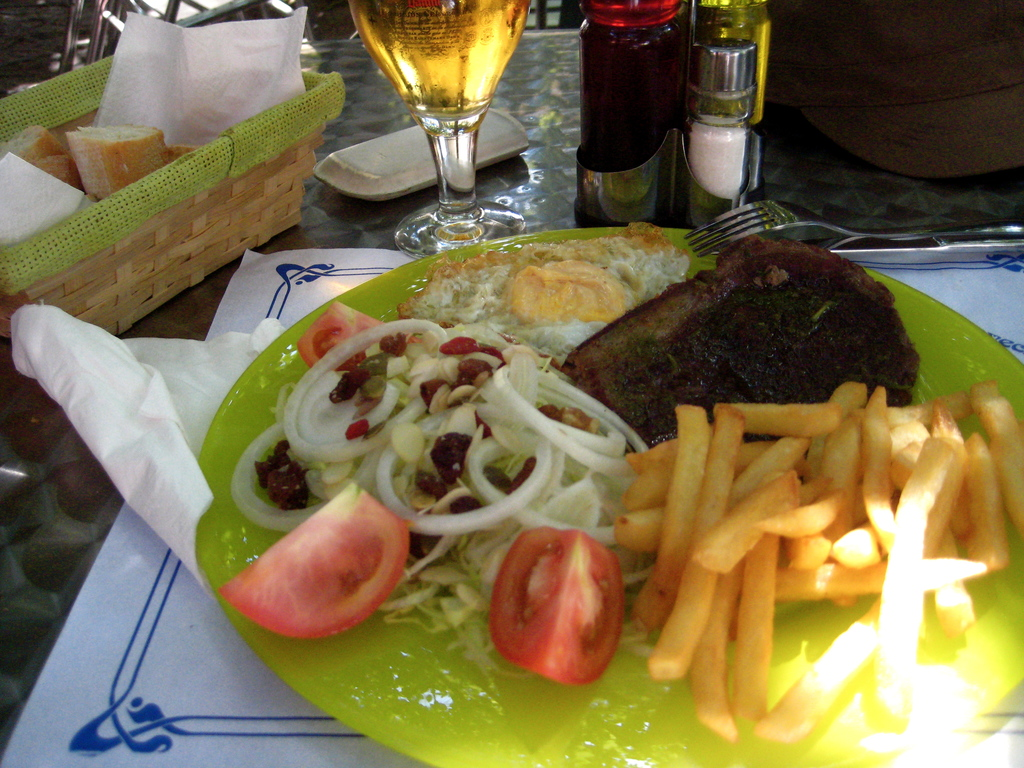French fries: (606, 371, 1001, 729)
